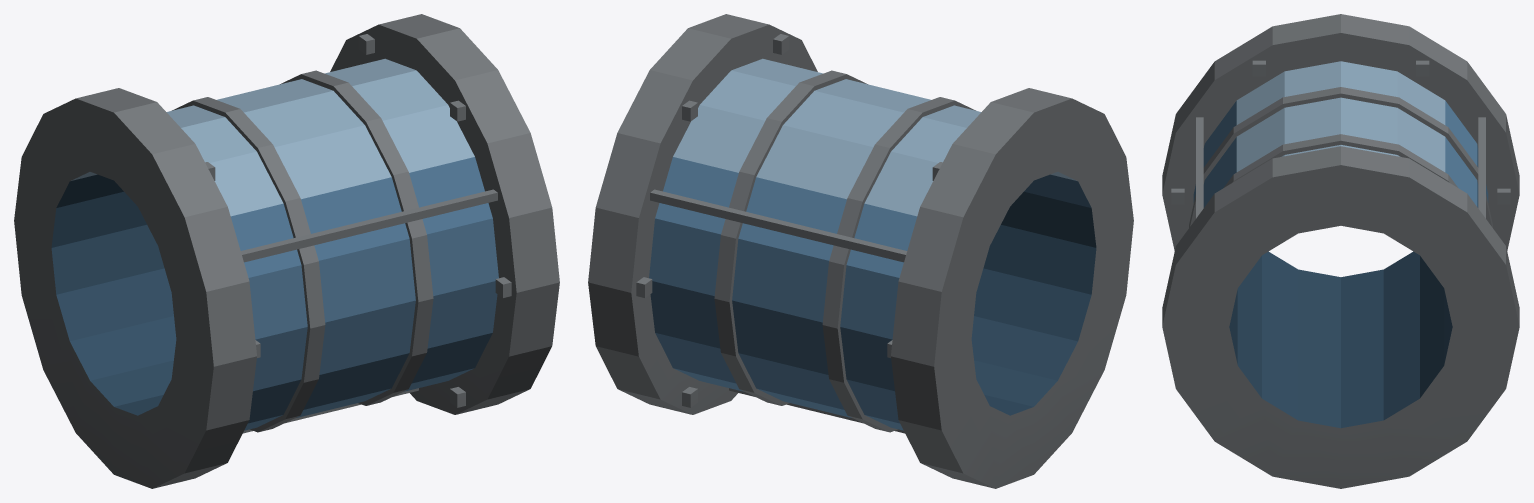
Rendered from pipe.glass.water.glb.
3 renders of one model, left to right at view 1: azimuth 30°, elevation 25°; view 2: azimuth 150°, elevation 25°; view 3: azimuth 270°, elevation 25°, orthographic. The views are drawn at different scales.
Parts seen in each view (by area): view 1: pipe_glass_water; view 2: pipe_glass_water; view 3: pipe_glass_water.
Boxes of the visible parts, box(x1,y1,x2,y2) form: pipe_glass_water: box(14, 14, 559, 488); pipe_glass_water: box(588, 14, 1133, 488); pipe_glass_water: box(1162, 14, 1519, 488).
Size of what is drawn, in the model's own units: 1.6 by 1.6 by 1.6.
